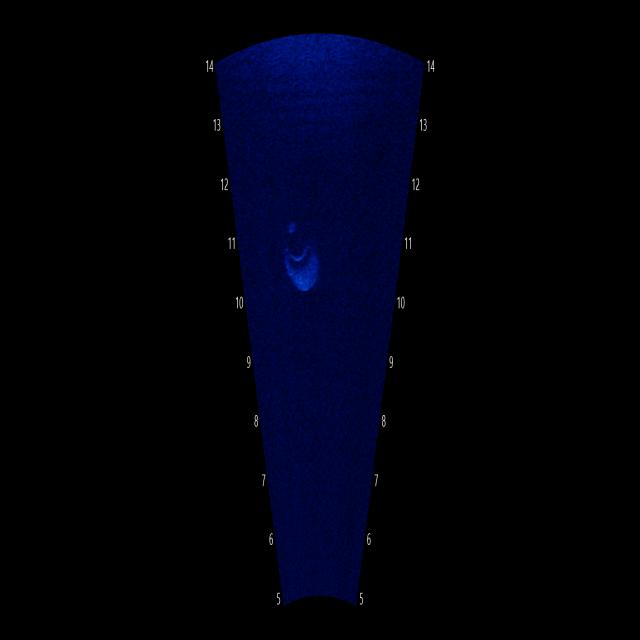circle: (280, 205, 327, 303)
